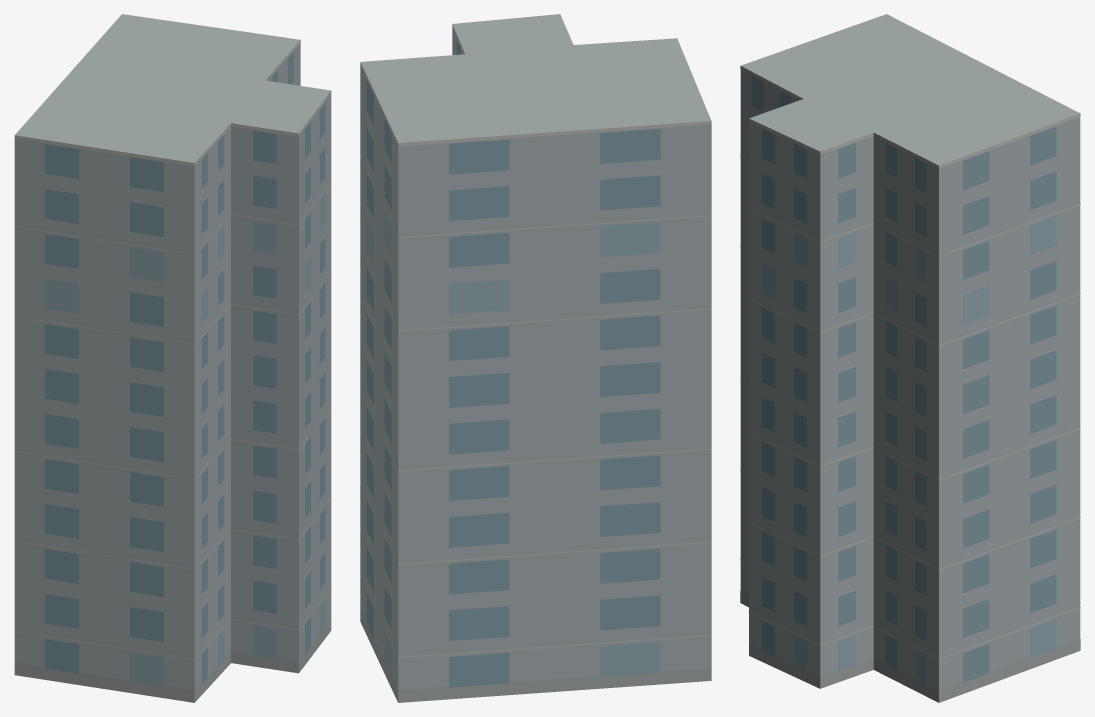
File: residential-ab3019a1-680d-4b78-8e69-b7ea18a39879.glb
3 views of the same model, side by side, from view 1: azimuth 30°, elevation 25°; view 2: azimuth 150°, elevation 25°; view 3: azimuth 270°, elevation 25° (orthographic). The views are drawn at different scales.
Parts seen in each view (by area): view 1: residential-ab3019a1-680d-4b78-8e69-b7ea18a39879.tmp; view 2: residential-ab3019a1-680d-4b78-8e69-b7ea18a39879.tmp; view 3: residential-ab3019a1-680d-4b78-8e69-b7ea18a39879.tmp.
Boxes of the visible parts, x1,y1,x2,y2 form: residential-ab3019a1-680d-4b78-8e69-b7ea18a39879.tmp: (14,14,331,702); residential-ab3019a1-680d-4b78-8e69-b7ea18a39879.tmp: (360,14,711,702); residential-ab3019a1-680d-4b78-8e69-b7ea18a39879.tmp: (740,14,1080,702).
Bounding box in the file's own units: 23.63 × 39 × 22.39.
